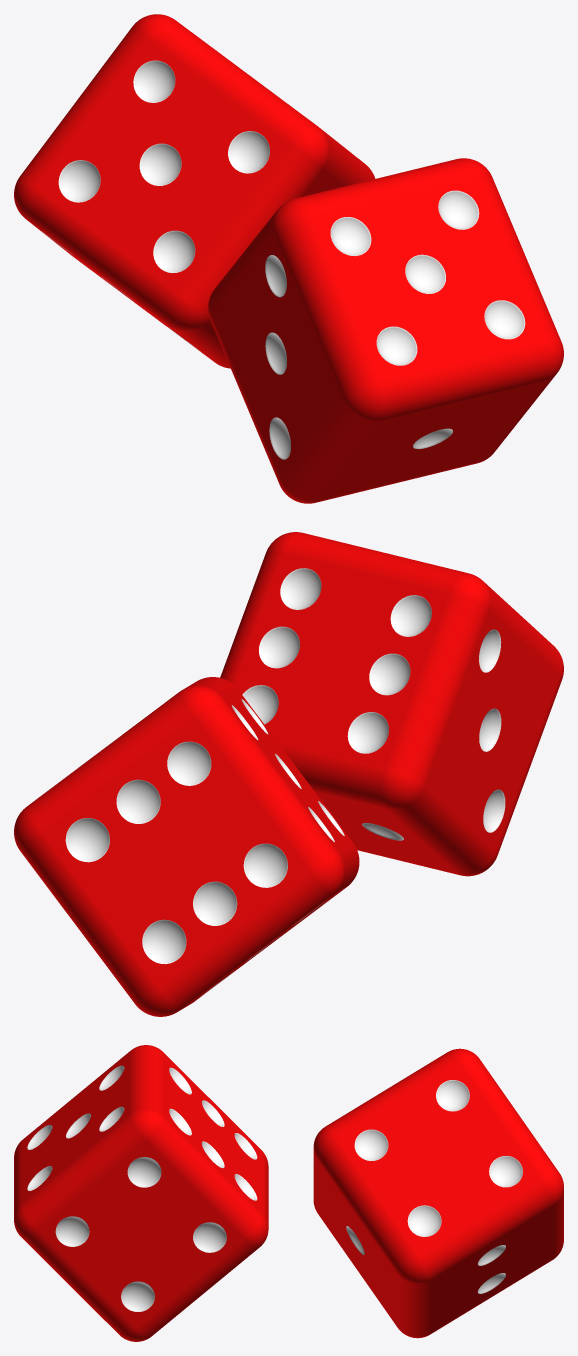
The model's file is rolling_dice.glb.
The picture shows the model from 3 angles, top to bottom: view 1: azimuth 30°, elevation 25°; view 2: azimuth 150°, elevation 25°; view 3: azimuth 270°, elevation 25°; orthographic projection. The views are drawn at different scales.
Parts seen in each view (by area): view 1: Cube, Cube.001; view 2: Cube, Cube.001; view 3: Cube, Cube.001.
Boxes of the visible parts, left/top/right/bottom form: Cube: left=208, top=158, right=563, bottom=503; Cube.001: left=14, top=14, right=375, bottom=368; Cube: left=220, top=532, right=563, bottom=876; Cube.001: left=14, top=677, right=359, bottom=1016; Cube: left=14, top=1045, right=268, bottom=1341; Cube.001: left=313, top=1048, right=563, bottom=1338.
Size of the model in its own units: 3.04 by 3.02 by 5.66.
